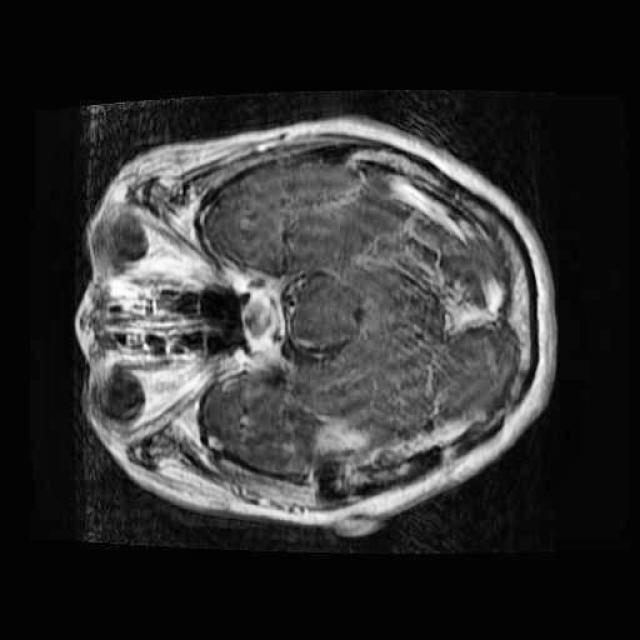Non-Tumor: (296, 404, 420, 482)
